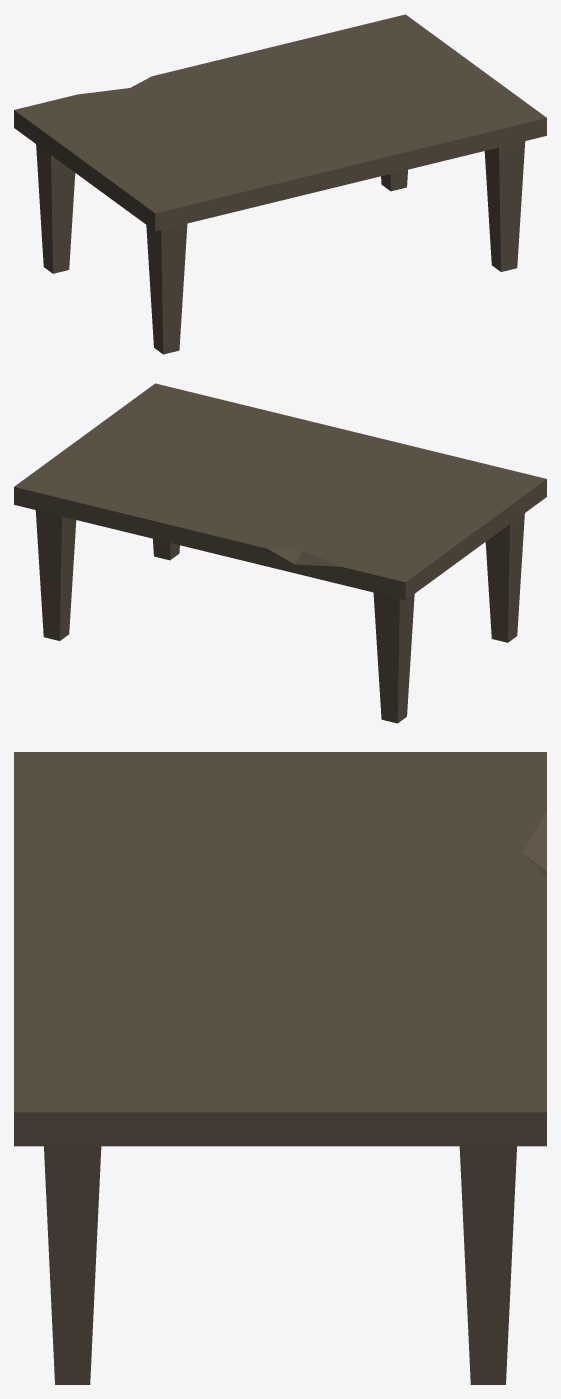
The model's file is SM_Props_Interior_House_Room_Coffee_Table_05.fbx.
The picture shows the model from 3 angles, top to bottom: view 1: azimuth 30°, elevation 25°; view 2: azimuth 150°, elevation 25°; view 3: azimuth 270°, elevation 25°; orthographic projection. The views are drawn at different scales.
Parts seen in each view (by area): view 1: SM_Props_Interior_House_Room_Coffee_Table_05; view 2: SM_Props_Interior_House_Room_Coffee_Table_05; view 3: SM_Props_Interior_House_Room_Coffee_Table_05.
Part boxes in pixels (x1,y1,x2,y2): SM_Props_Interior_House_Room_Coffee_Table_05: (14,14,546,354); SM_Props_Interior_House_Room_Coffee_Table_05: (14,383,546,723); SM_Props_Interior_House_Room_Coffee_Table_05: (14,752,546,1384).
Size of the model in its own units: 80 by 30 by 50.
